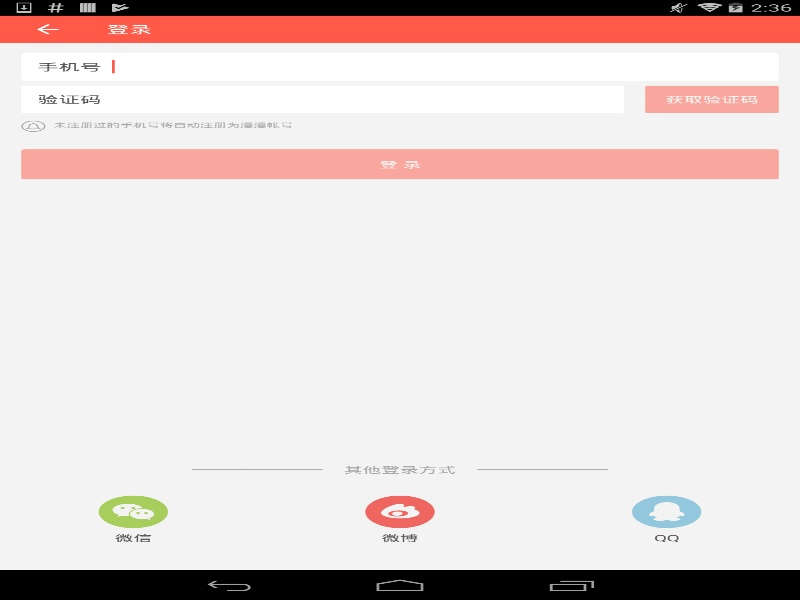Button: (21, 149, 778, 179), (645, 85, 778, 113), (10, 15, 85, 43)
Input: (112, 53, 778, 80), (112, 85, 624, 113)
